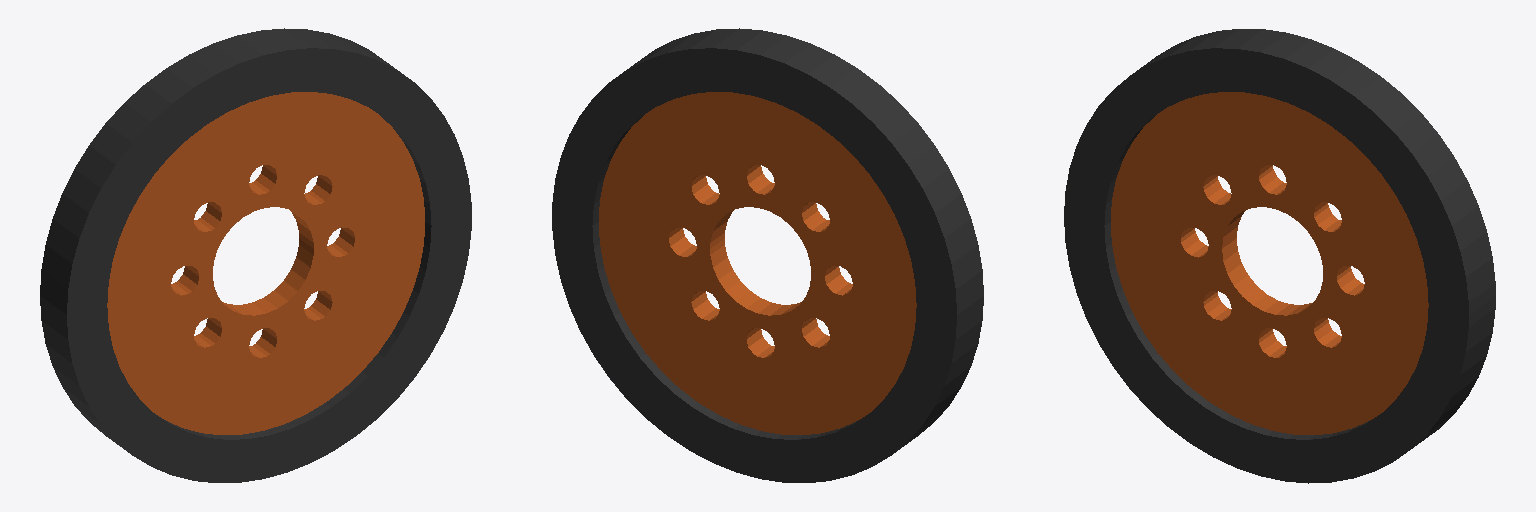
File: ROB-12479.obj
3 renders of one model, left to right at view 1: azimuth 30°, elevation 25°; view 2: azimuth 150°, elevation 25°; view 3: azimuth 330°, elevation 25°, orthographic.
Visible parts, largest first — view 1: mesh 2 Boss-Extrude1, mesh 1 RO; view 2: mesh 2 Boss-Extrude1, mesh 1 RO; view 3: mesh 2 Boss-Extrude1, mesh 1 RO.
Part boxes in pixels (bbox=[...]): mesh 2 Boss-Extrude1: bbox=[107, 92, 424, 434]; mesh 1 RO: bbox=[40, 28, 471, 482]; mesh 2 Boss-Extrude1: bbox=[599, 92, 916, 434]; mesh 1 RO: bbox=[552, 28, 983, 482]; mesh 2 Boss-Extrude1: bbox=[1111, 92, 1428, 434]; mesh 1 RO: bbox=[1064, 29, 1495, 483].
Bounding box in the file's own units: 0.0508 × 0.0508 × 0.0058.